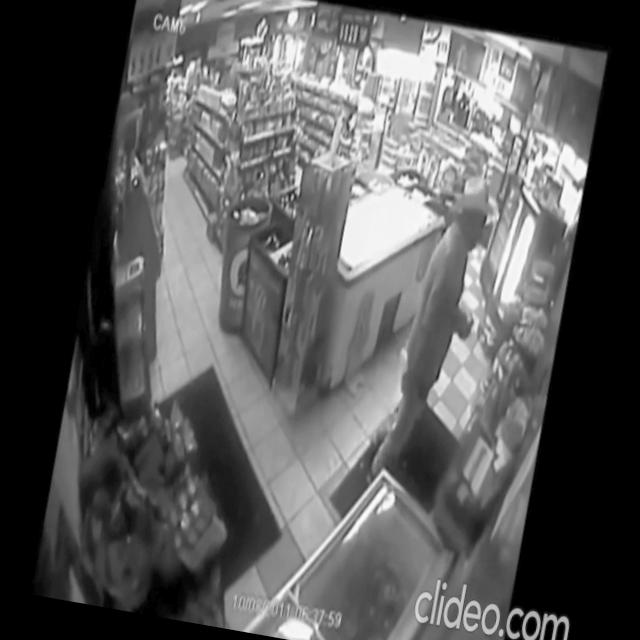person: (357, 160, 502, 504)
